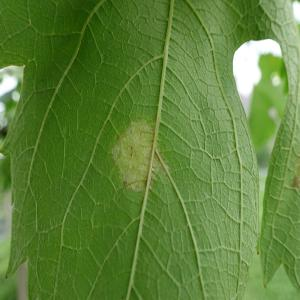Folha: (0, 0, 299, 298)
Fungo: (110, 118, 172, 196), (291, 153, 300, 192)
